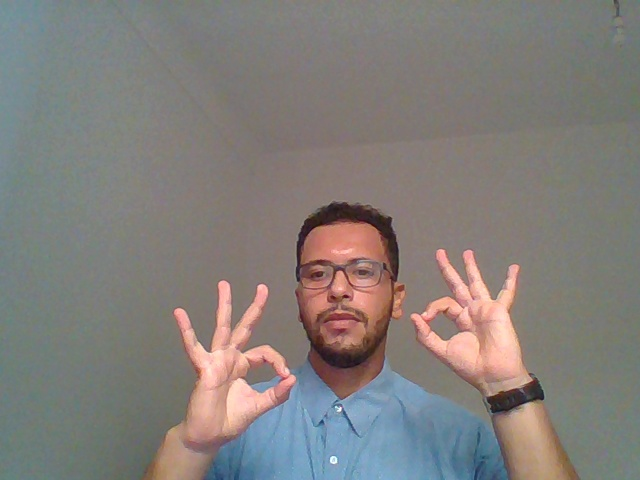okay: (410, 209, 563, 479), (147, 235, 300, 470)
